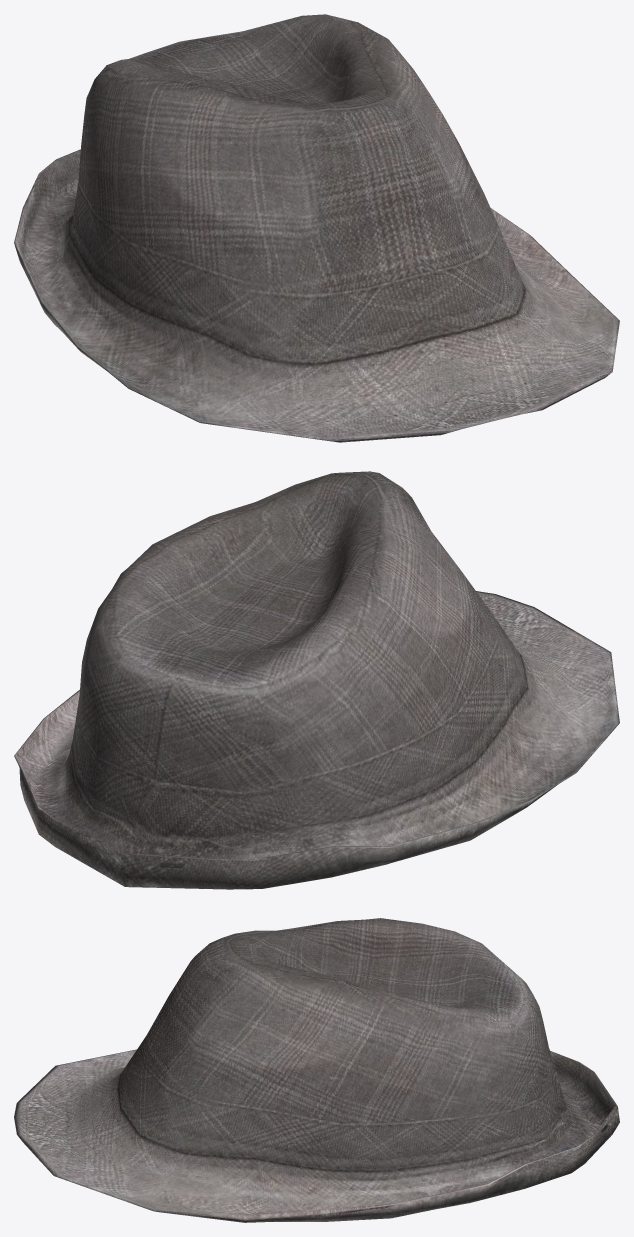
Rendered from fedora01.glb.
3 views of the same model, one above another, from view 1: azimuth 30°, elevation 25°; view 2: azimuth 150°, elevation 25°; view 3: azimuth 270°, elevation 25° (orthographic). The views are drawn at different scales.
Parts seen in each view (by area): view 1: Human.fedora01; view 2: Human.fedora01; view 3: Human.fedora01.
Boxes of the visible parts, bbox=[...] form: Human.fedora01: bbox=[14, 14, 619, 442]; Human.fedora01: bbox=[14, 471, 619, 889]; Human.fedora01: bbox=[14, 918, 619, 1222].
Bounding box in the file's own units: 0.1993 × 0.104 × 0.2864.
1 material, 1 textured.
